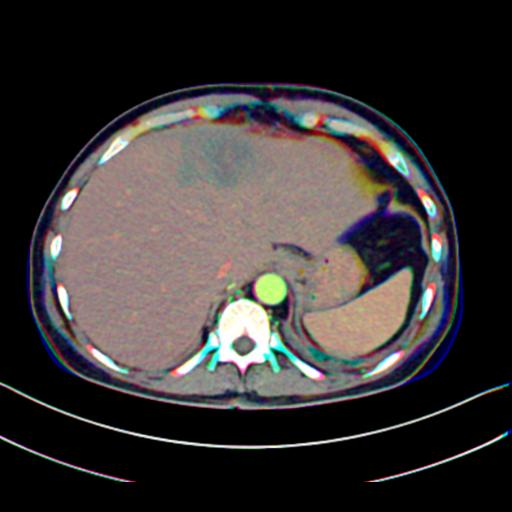Abscess: (176, 125, 257, 190)
